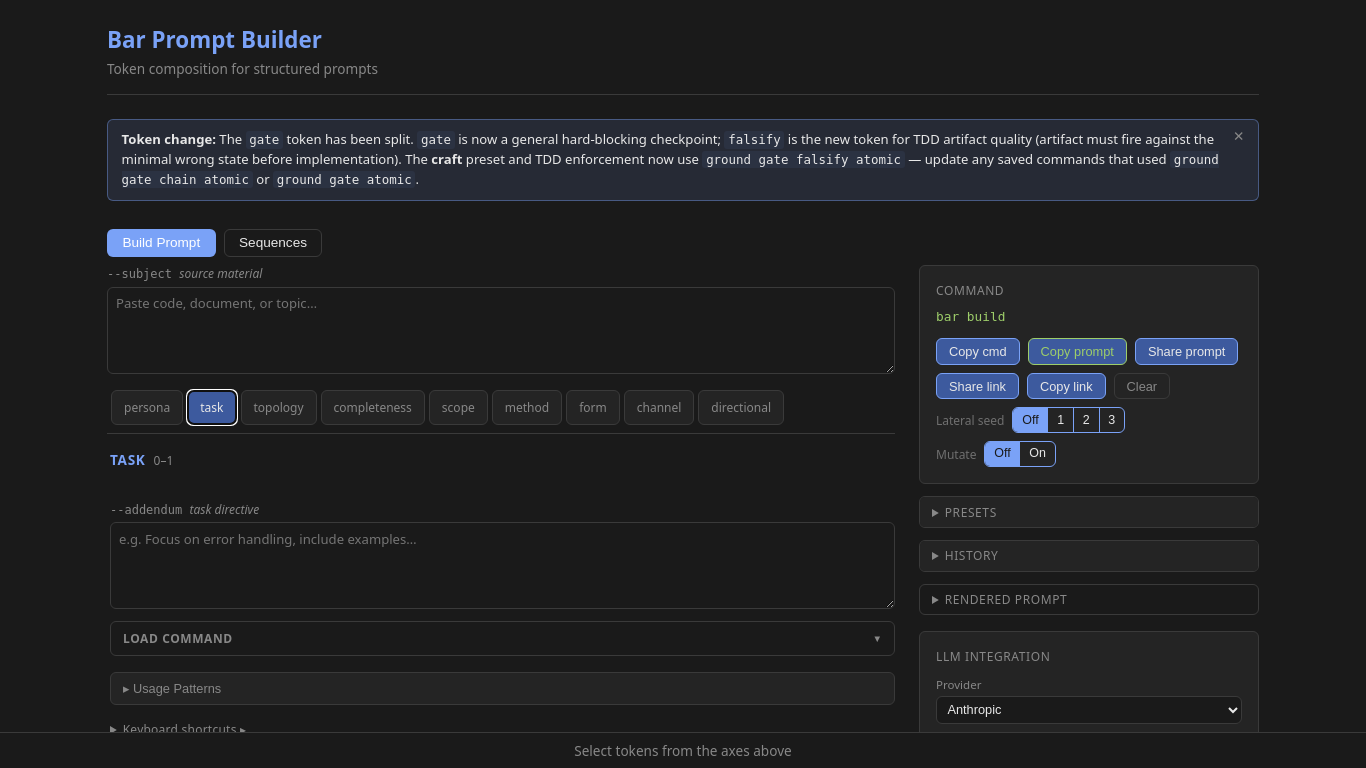
Test: Persona use_when visibility › clicking a preset chip shows its axis summary strip
The width and height of the screenshot is (1366, 768).
Click the tab with class "tab" showing "persona" at point(147, 407), box [111,390,183,425]
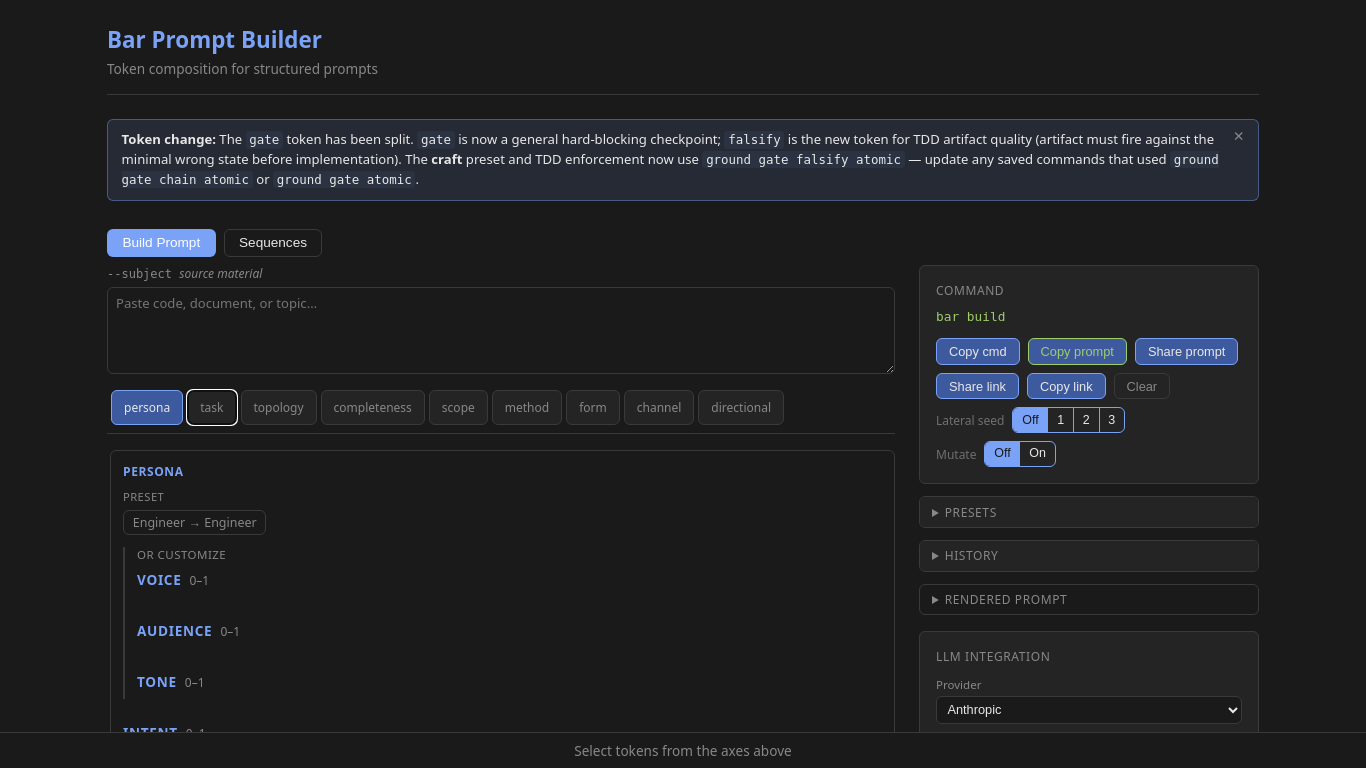
Click the button "Engineer → Engineer" at point(195, 522), box [123,510,266,535]
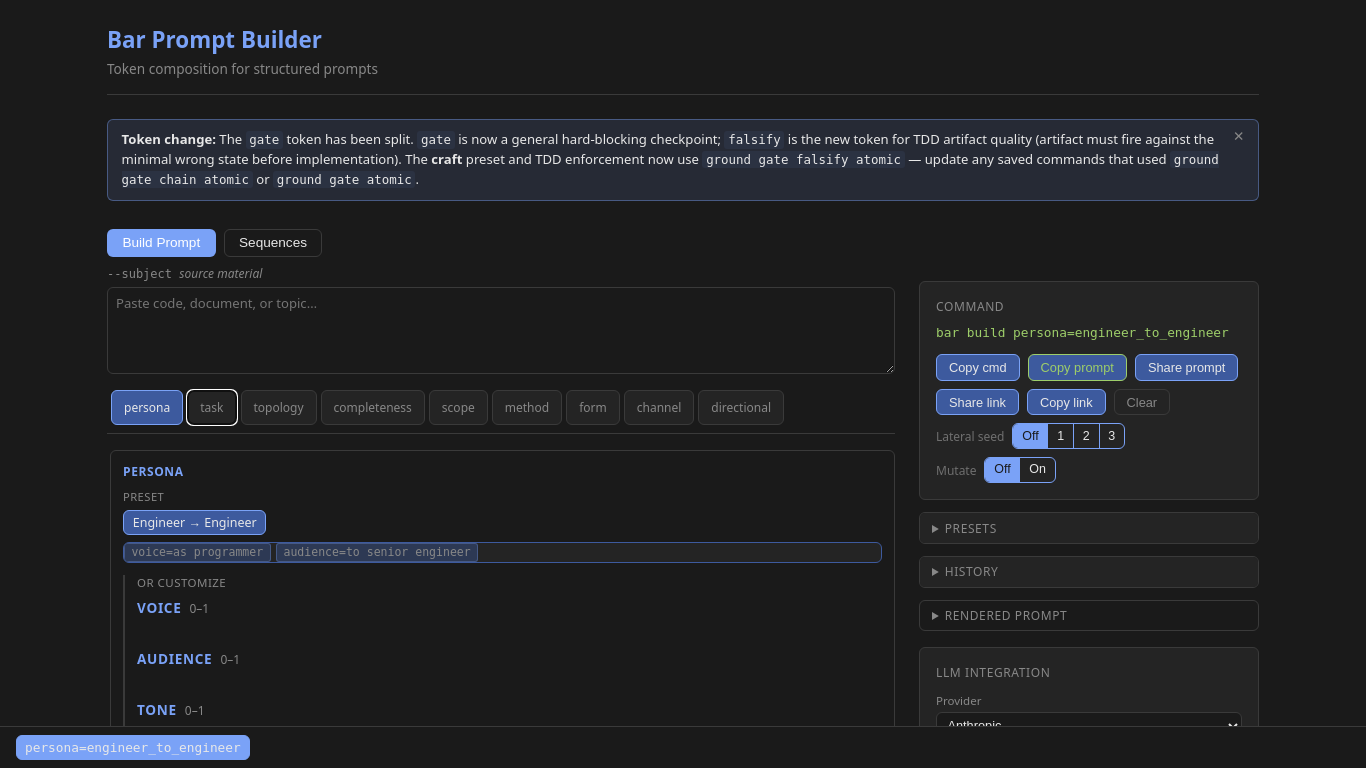
Expected: the element showing "voice=as programmer audience=to senior engineer" is shown, [123,542,882,563]
